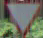Give way: (5, 1, 42, 35)
